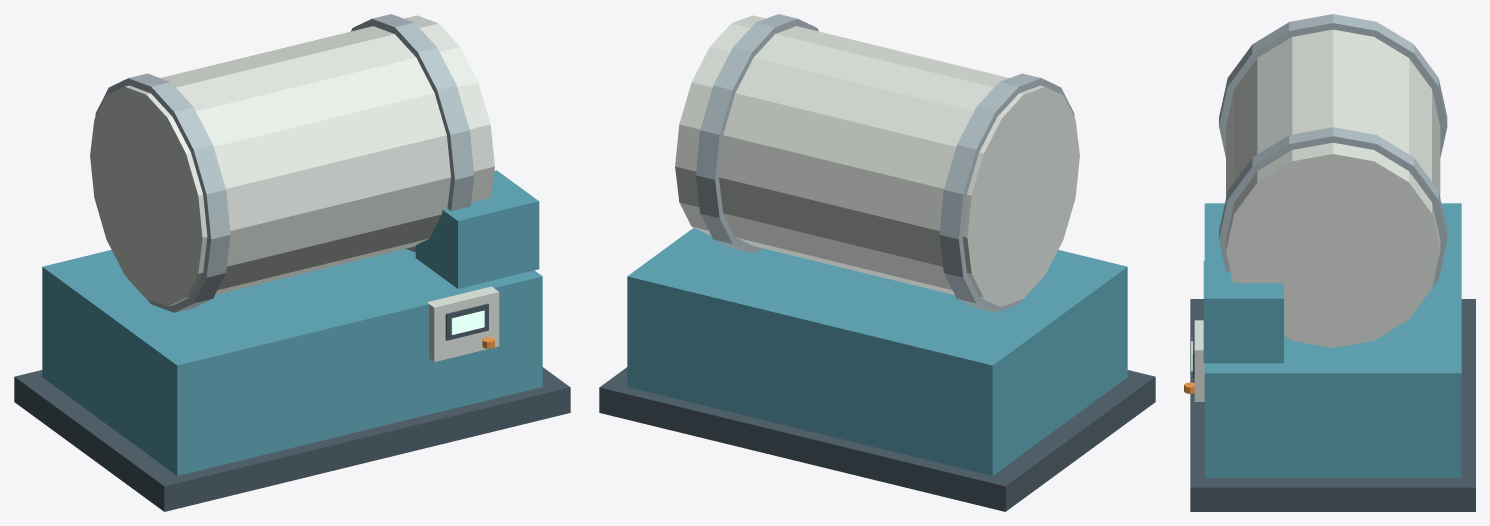
The model's file is rotary-drum-dryer.glb.
3 views of the same model, side by side, from view 1: azimuth 30°, elevation 25°; view 2: azimuth 150°, elevation 25°; view 3: azimuth 270°, elevation 25° (orthographic). The views are drawn at different scales.
Parts seen in each view (by area): view 1: blue, cream, dark, steel; view 2: blue, cream, dark, steel; view 3: cream, blue, dark, steel.
Boxes of the visible parts, x1,y1,x2,y2 form: blue: (42, 170, 542, 475); cream: (90, 15, 499, 361); dark: (14, 303, 570, 511); steel: (95, 14, 474, 312); blue: (627, 228, 1127, 475); cream: (675, 15, 1079, 306); dark: (599, 367, 1155, 511); steel: (695, 14, 1074, 312); cream: (1194, 29, 1440, 401); blue: (1203, 203, 1461, 478); dark: (1190, 299, 1475, 511); steel: (1219, 14, 1447, 287).
Size of the model in its own units: 2.5 by 2.09 by 1.64.
